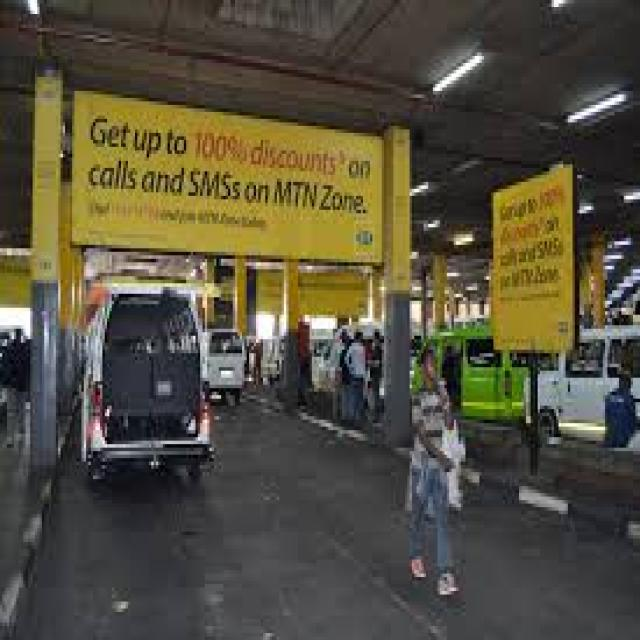MiniBus taxi: (202, 325, 252, 406)
Pedestrians: (400, 336, 466, 602)
